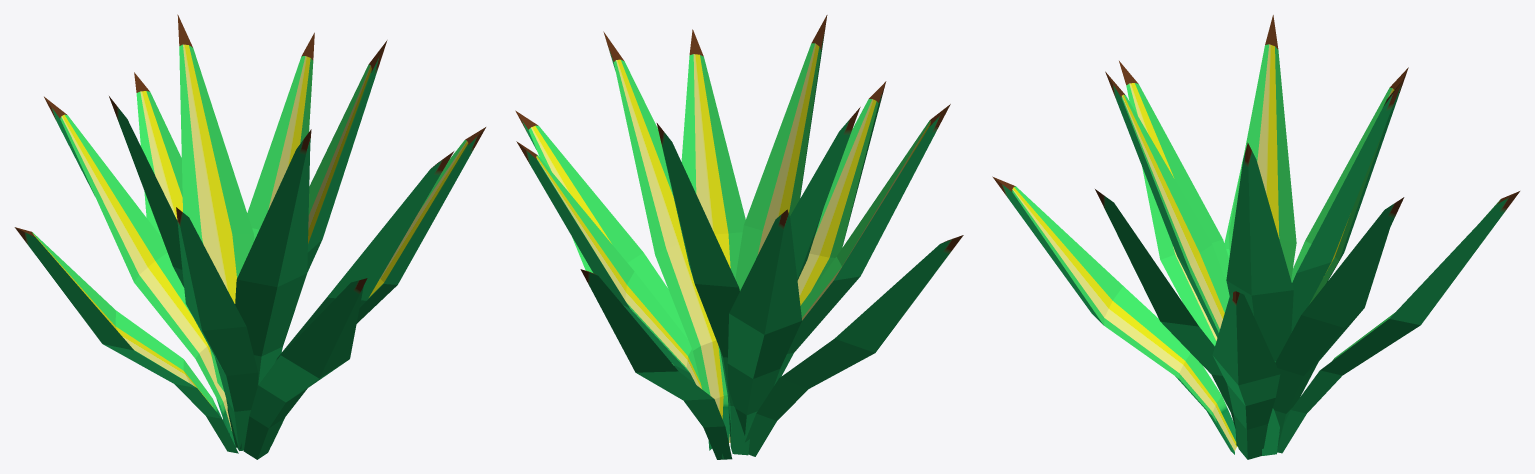
File: LPNG1-Bush_05.fbx
3 views of the same model, side by side, from view 1: azimuth 30°, elevation 25°; view 2: azimuth 150°, elevation 25°; view 3: azimuth 270°, elevation 25° (orthographic). The views are drawn at different scales.
Visible parts, largest first — view 1: Bush05; view 2: Bush05; view 3: Bush05.
Part boxes in pixels (x1,y1,x2,y2): Bush05: (14,14,485,459); Bush05: (515,15,963,459); Bush05: (992,15,1519,459).
Bounding box in the file's own units: 344 × 273 × 348.
